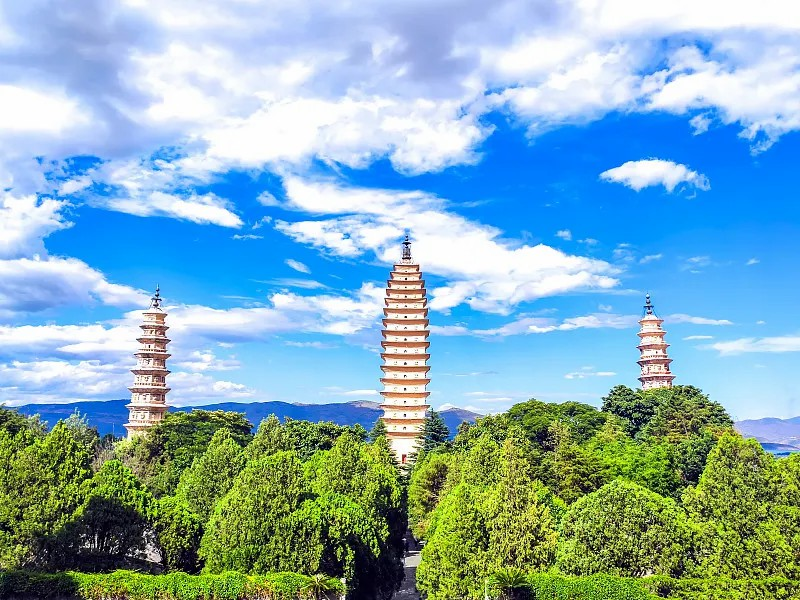ThreePagoda: (380, 234, 430, 459)
